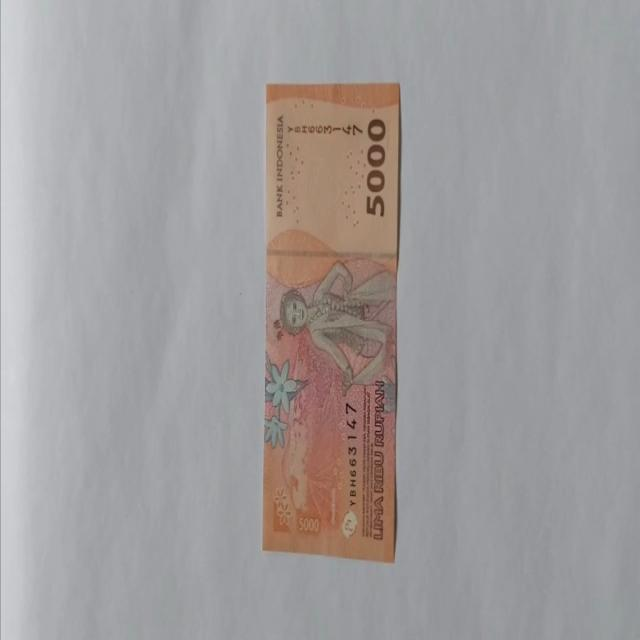lima ribu rupiah: (262, 82, 402, 562)
